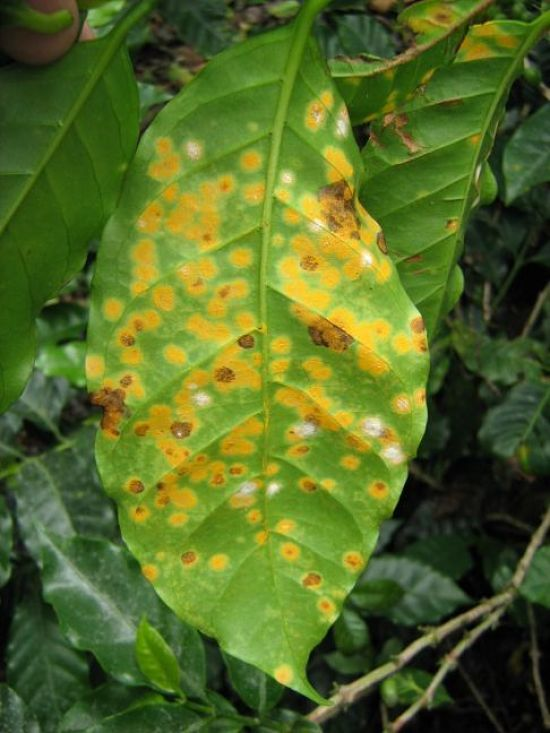roya: (91, 57, 399, 669)
